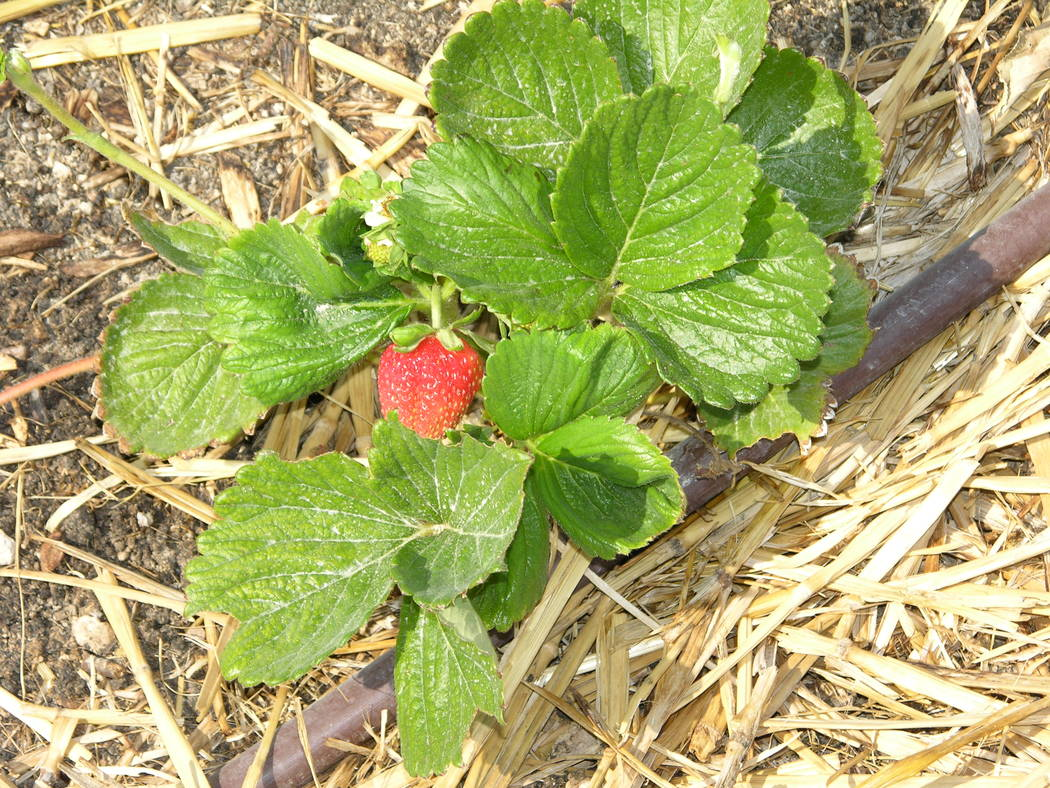ripe_strawberry: (375, 321, 487, 443)
